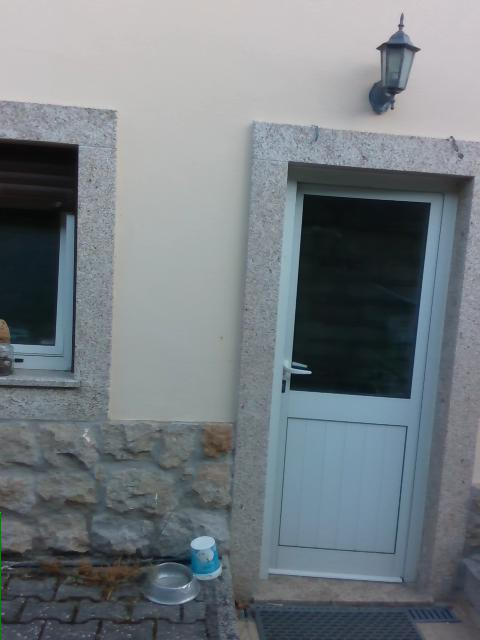door: (256, 170, 471, 600)
